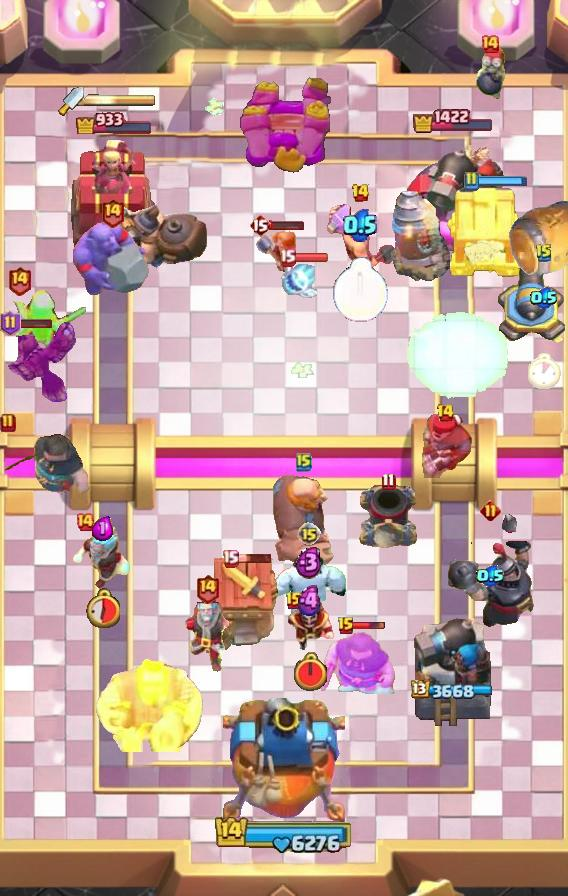archer-queen: (73, 218, 151, 298)
balloon: (270, 470, 338, 572)
bar: (70, 138, 158, 256)
bat: (281, 259, 317, 299)
bomb: (445, 184, 525, 278)
clock: (214, 814, 354, 854)
dirt: (508, 198, 568, 280)
electro-spirit: (343, 208, 377, 242), (295, 585, 325, 617), (295, 545, 323, 579), (530, 287, 558, 309), (476, 565, 504, 587), (91, 516, 112, 541)
elixir: (332, 257, 389, 323), (292, 651, 329, 693), (84, 588, 119, 628), (528, 353, 561, 389)
emote: (476, 175, 528, 187), (235, 552, 272, 564), (269, 219, 305, 231), (17, 317, 53, 329), (293, 252, 329, 263), (352, 621, 386, 631)
giant-skeleton: (95, 658, 205, 752)
golden-knight: (0, 321, 76, 403)
hog-rider: (254, 229, 298, 279)
ice-golem: (472, 45, 508, 101)
king-tower: (223, 698, 345, 826)
king-tower-bar: (84, 93, 156, 107)
lumberjack: (285, 600, 335, 652)
magic-archer: (390, 190, 450, 282)
mega-knight: (405, 309, 511, 402)
mighty-miner: (323, 196, 397, 278)
mortar: (166, 600, 248, 672), (71, 524, 133, 590)
musketeer: (356, 483, 420, 549)
phoenix-small: (416, 414, 474, 478)
poison: (0, 285, 88, 359)
rage: (269, 548, 349, 614)
royal-guardian: (444, 511, 536, 629)
royal-hog: (0, 432, 92, 500), (317, 630, 397, 694)
royal-recruit: (496, 265, 568, 349)
selected: (413, 108, 496, 134), (74, 110, 154, 135), (411, 679, 495, 700)
sparky: (198, 557, 284, 655)
text: (99, 196, 124, 227), (7, 265, 32, 295), (195, 573, 220, 603), (297, 522, 321, 546), (249, 213, 271, 237), (0, 310, 20, 336), (479, 499, 501, 520), (480, 34, 500, 54), (75, 512, 95, 532), (351, 183, 370, 203), (436, 403, 455, 423), (535, 243, 553, 263), (285, 591, 303, 611), (337, 616, 355, 636), (279, 248, 296, 267), (463, 171, 479, 191), (0, 413, 16, 433), (296, 452, 312, 472), (222, 549, 239, 567), (381, 472, 396, 491)
tower-bar: (402, 136, 504, 256), (410, 611, 496, 731)
wizard: (99, 200, 211, 270)
